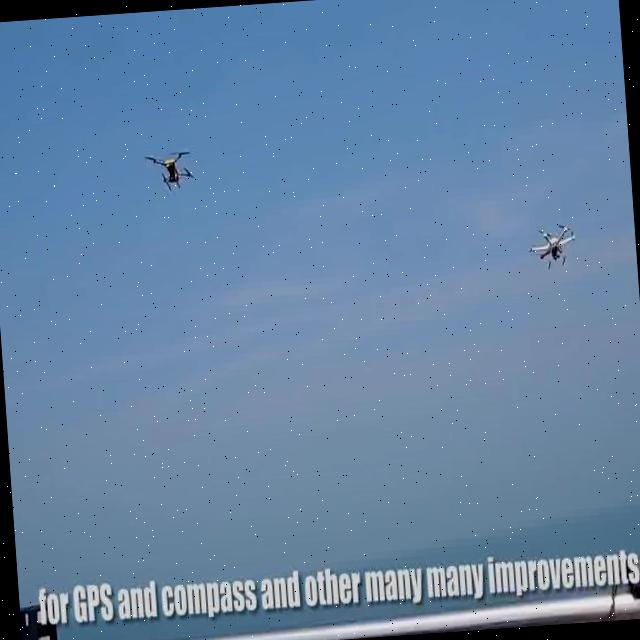drone: (528, 217, 580, 274), (141, 141, 195, 190)
